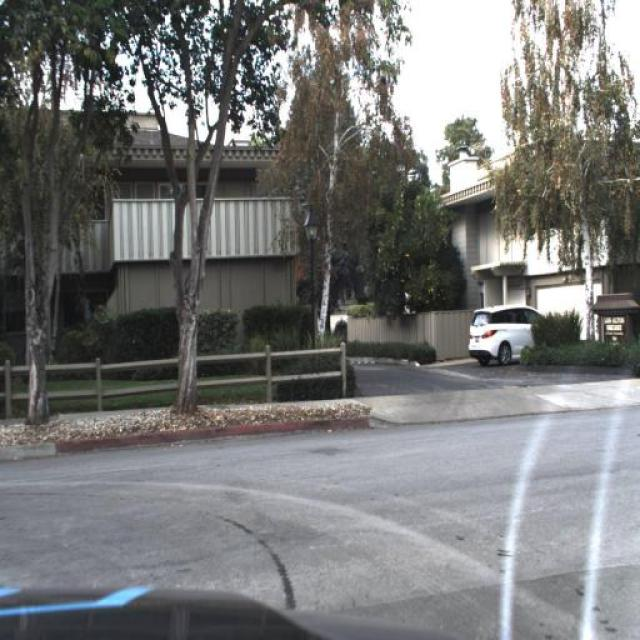car: (466, 307, 546, 371), (467, 300, 544, 366)
